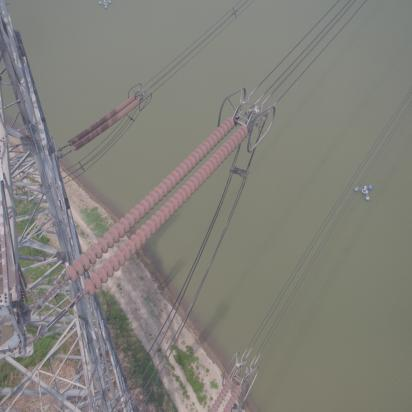insulator: (52, 114, 256, 310), (64, 92, 142, 155)
